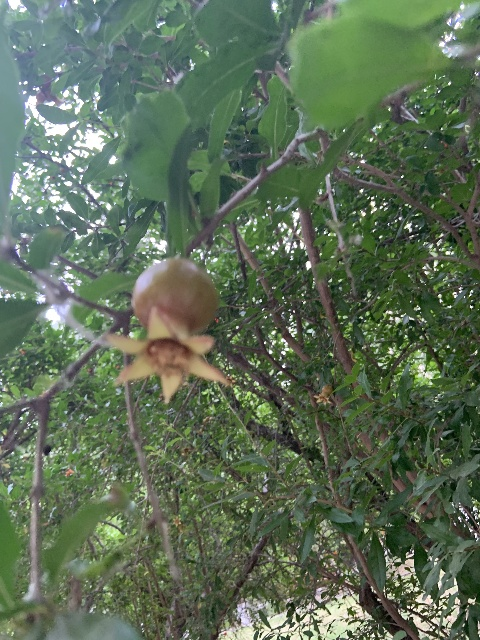early-fruit: (105, 257, 236, 403), (312, 384, 333, 405), (172, 515, 184, 532)
